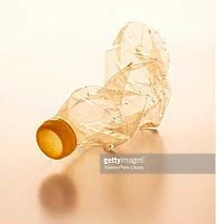bottle: (29, 11, 194, 166)
